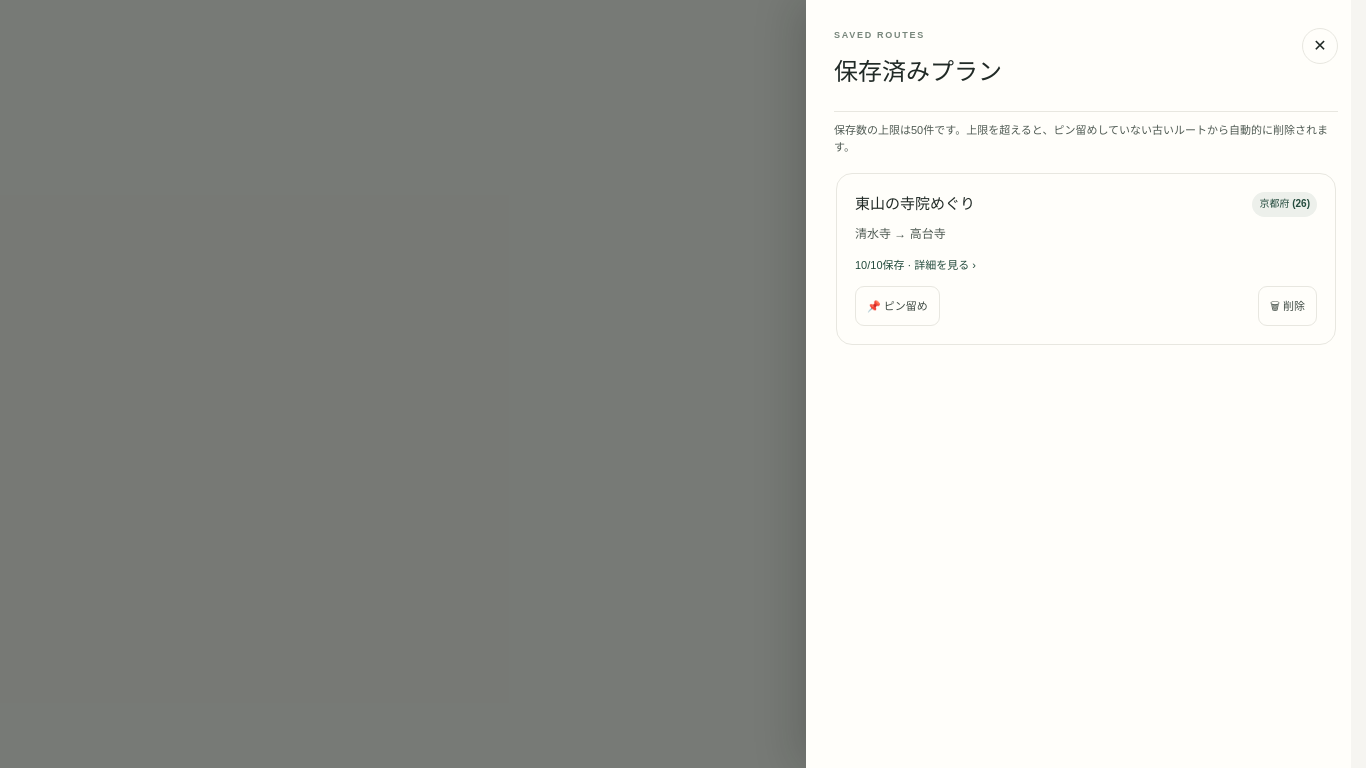
Test: SavedRoutesList › shows prefecture tags and removes a saved route
Expected: the text "保存数の上限は50件です。上限を超えると、ピン留めしていない古いルートから自動的に削除されます。" is shown, x1=834 y1=122 x2=1338 y2=155
Expected: the text "京都府 (26)" is shown, x1=1252 y1=192 x2=1317 y2=217
Click the button with aria-label "東山の寺院めぐりを保存から削除" at {"x": 1288, "y": 306}, box x1=1258 y1=286 x2=1317 y2=326
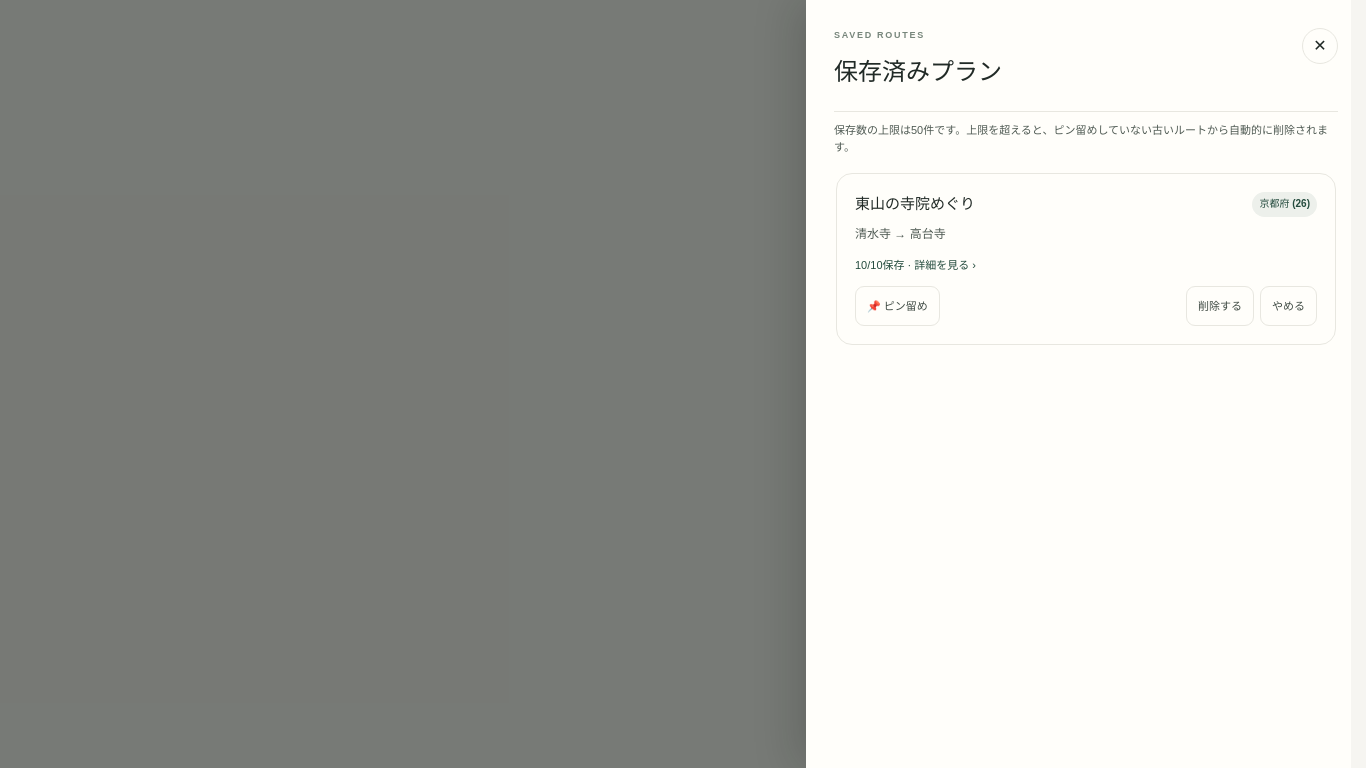
Click the button with aria-label "東山の寺院めぐりの削除を確定" at {"x": 1220, "y": 306}, box x1=1186 y1=286 x2=1254 y2=326
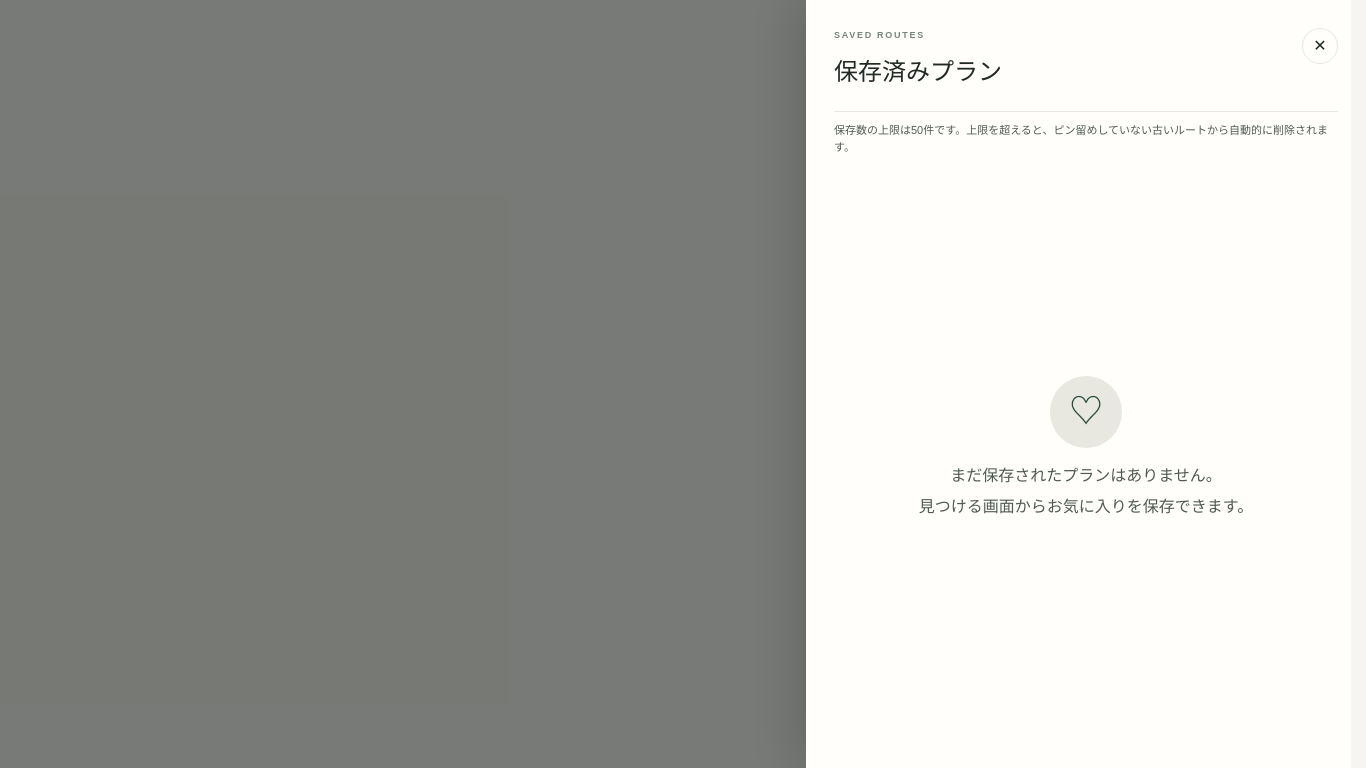
Result: the text "まだ保存されたプランはありません。" is shown at x1=950 y1=466 x2=1222 y2=484
